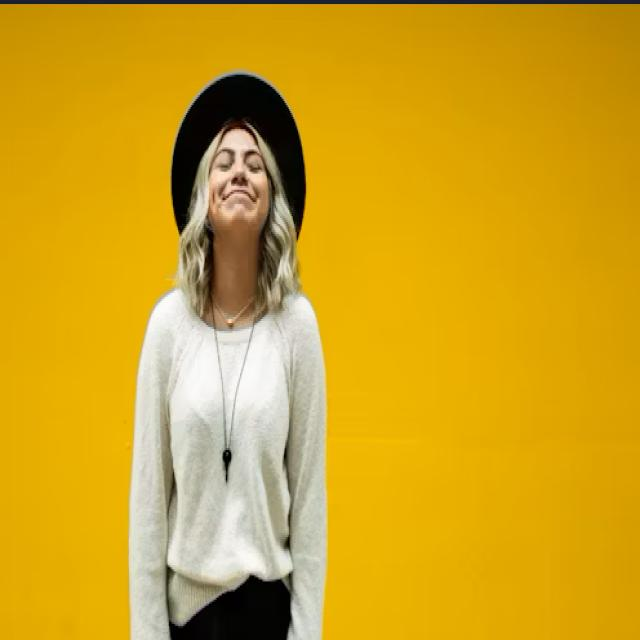Edited images: (124, 52, 347, 640)
